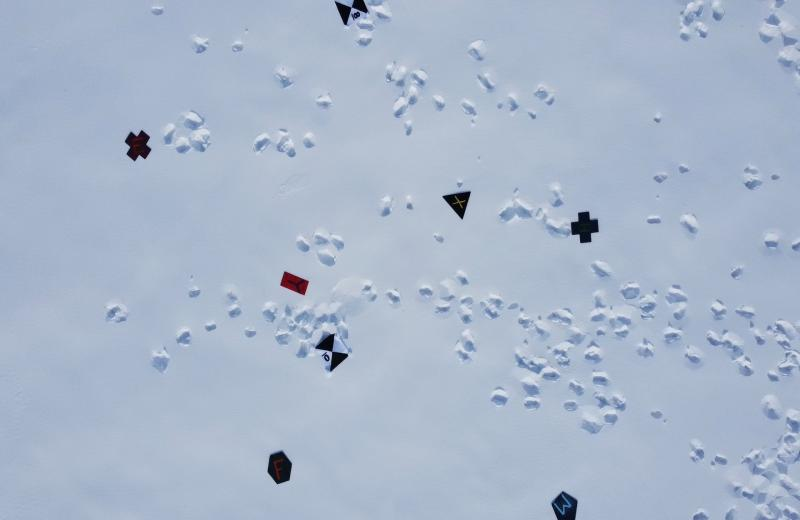Cross: (569, 206, 600, 246), (122, 128, 154, 162)
Hexagon: (264, 449, 295, 486)
Pentagon: (547, 487, 579, 520)
Rectangle: (277, 269, 311, 299)
Triangle: (439, 185, 474, 224)
